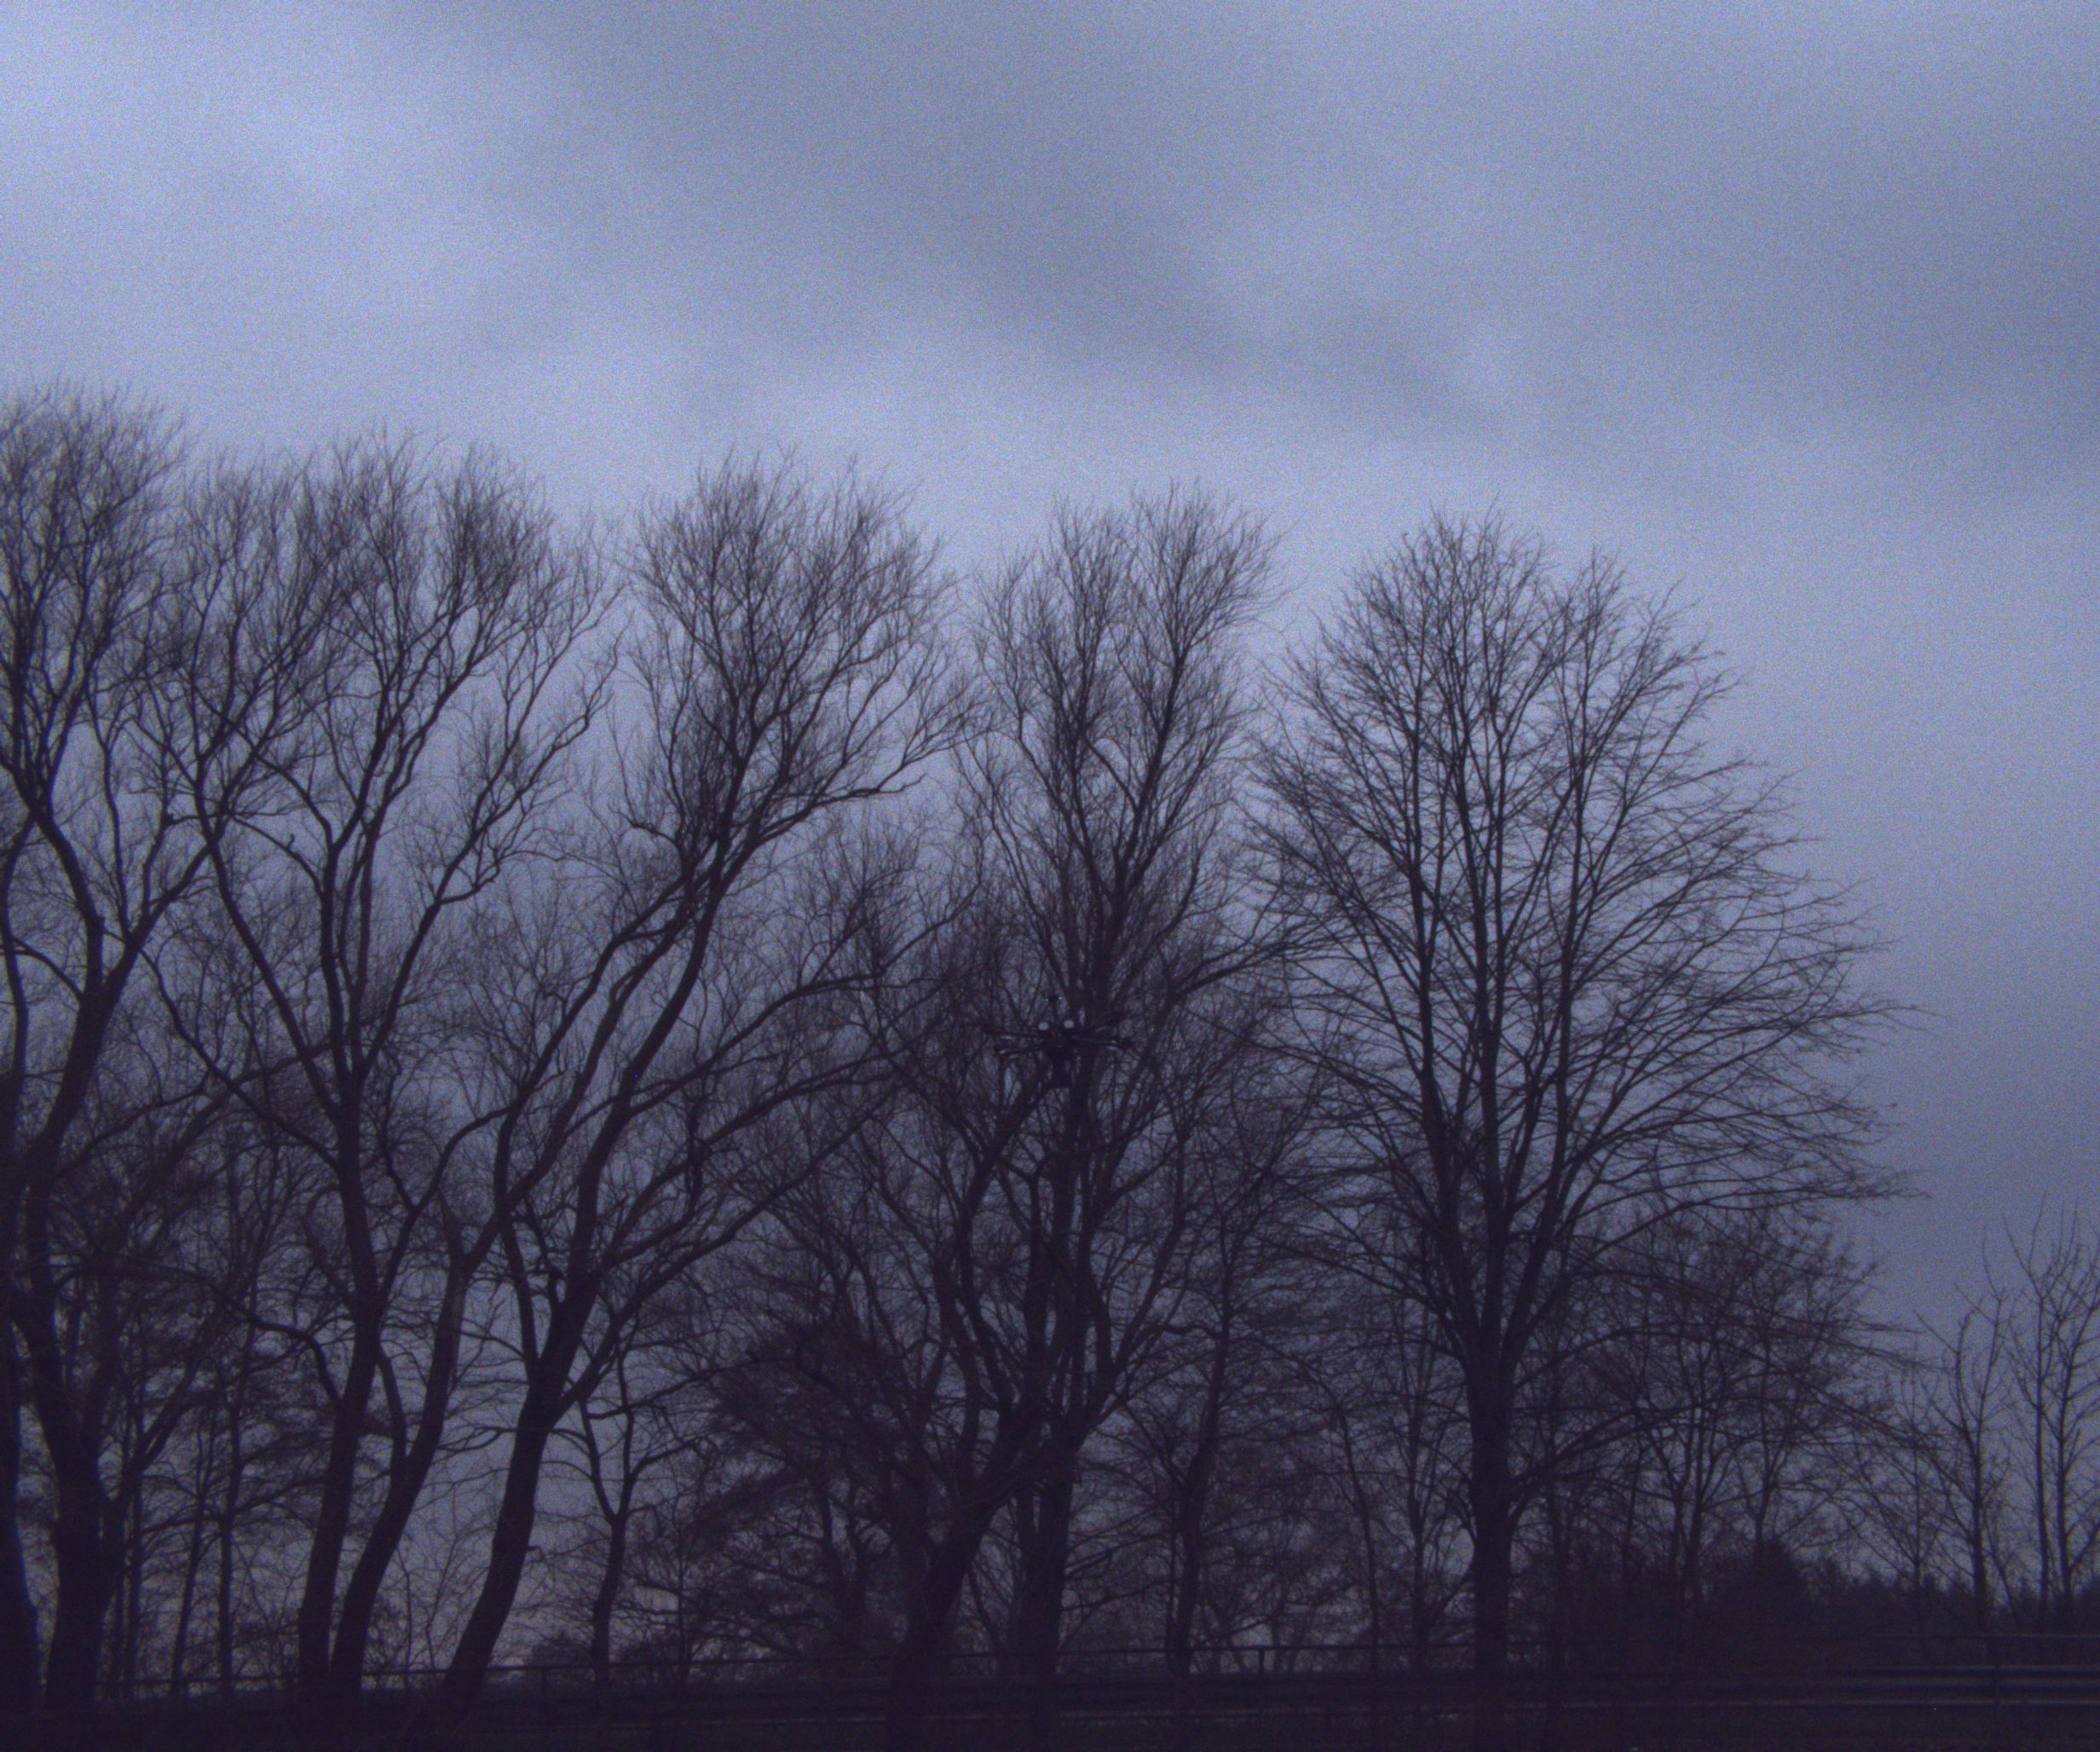Drohne: (912, 961, 1301, 1149)
